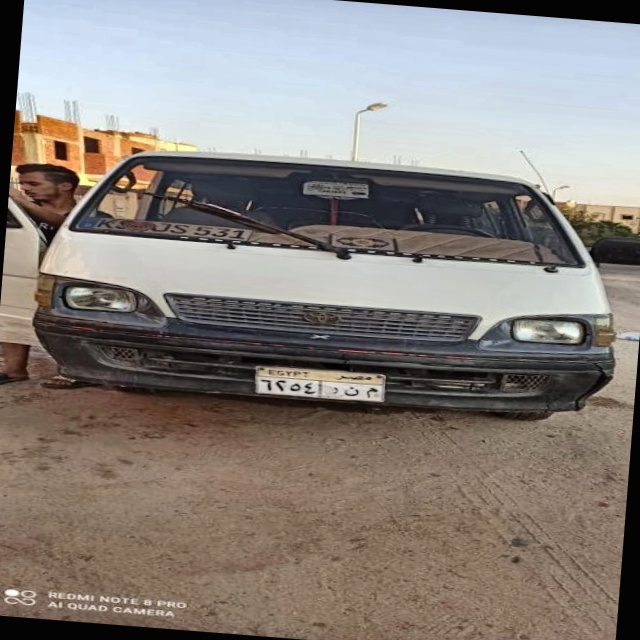License Plate: (251, 363, 392, 408)
